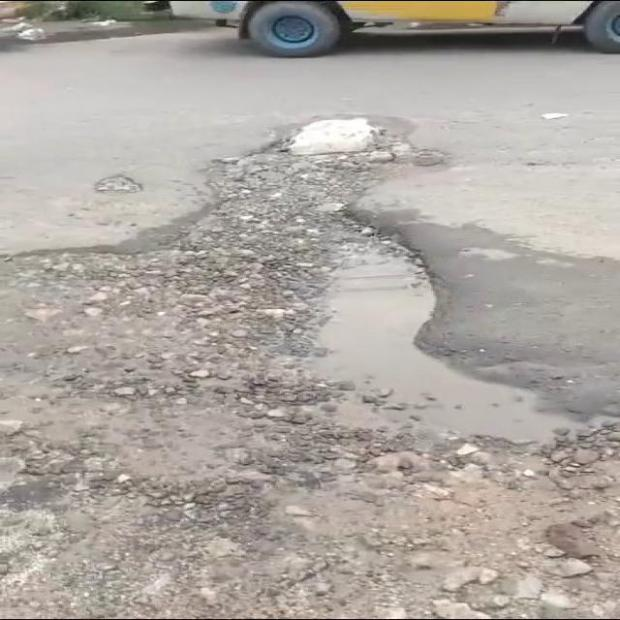lubang: (0, 139, 619, 616), (94, 172, 142, 193)
